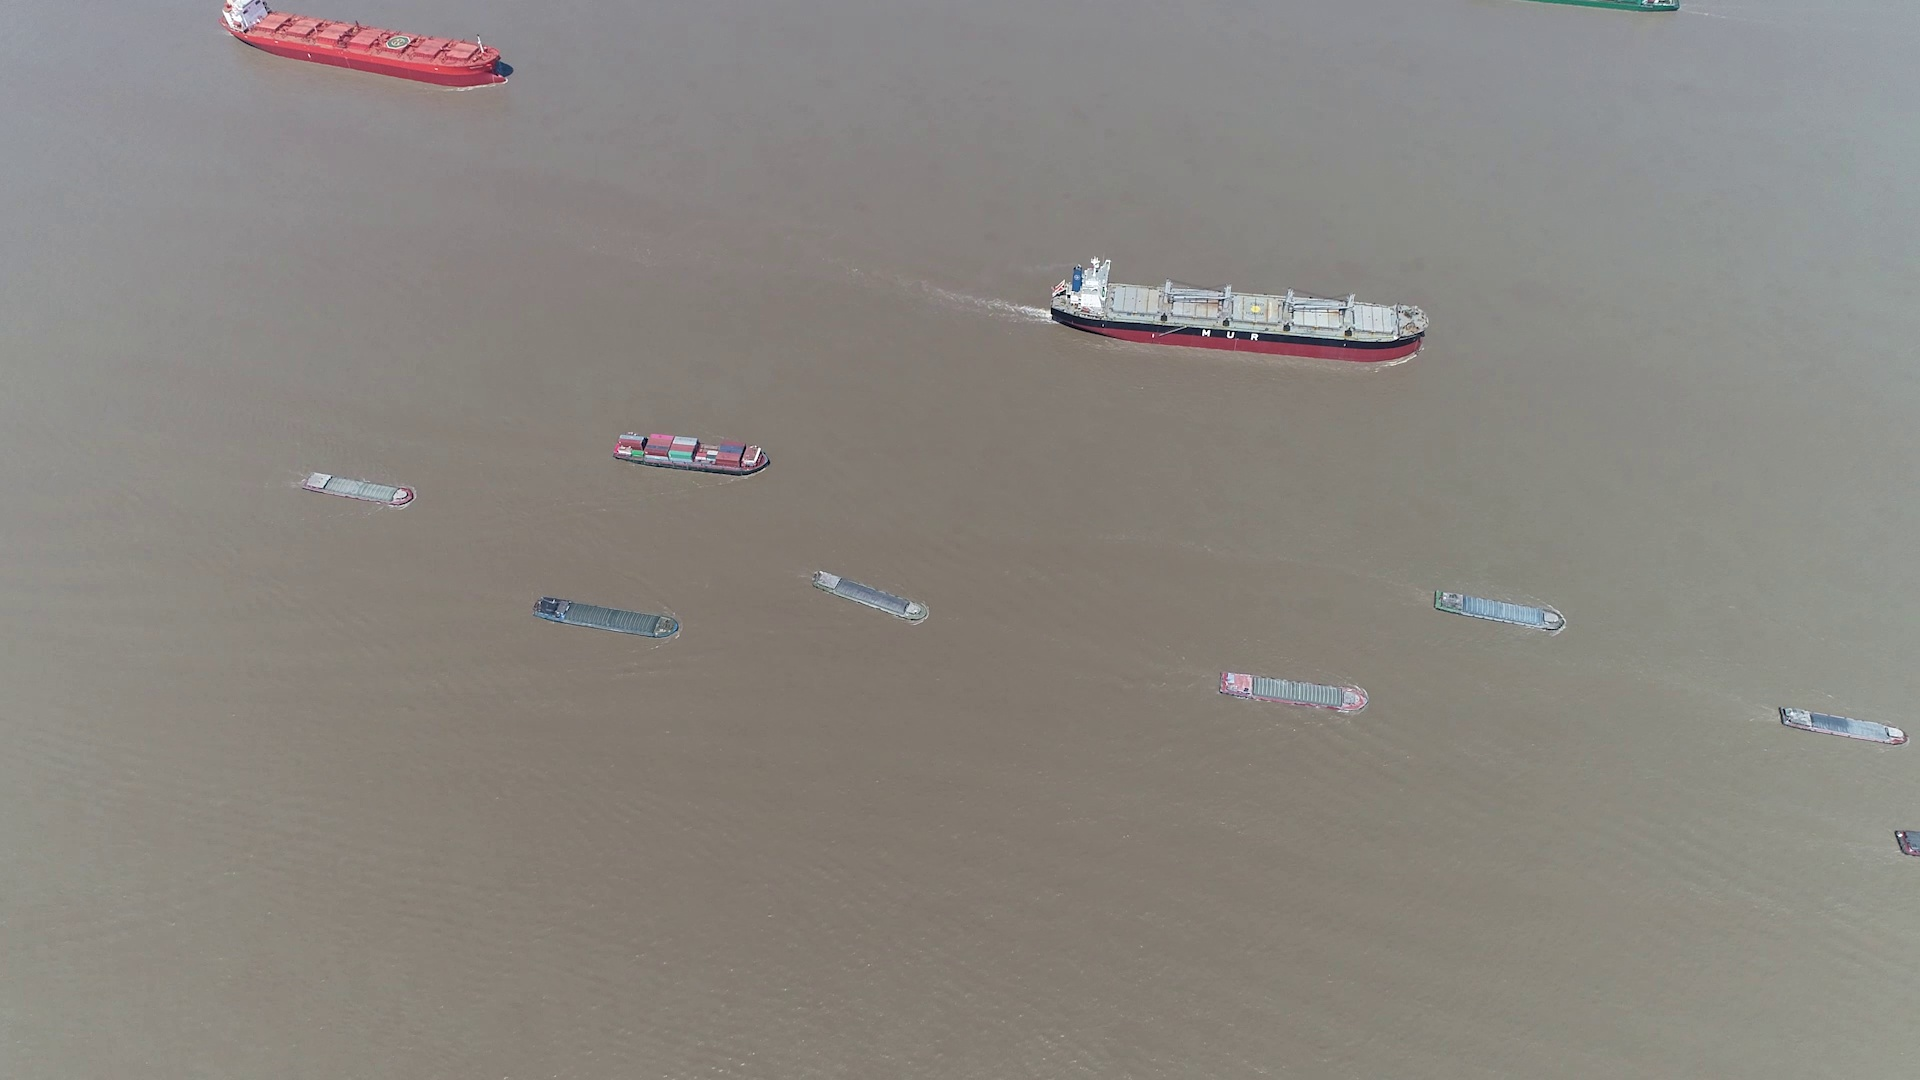ship: (1056, 260, 1425, 357), (220, 0, 516, 87), (611, 430, 770, 476), (534, 596, 682, 640), (814, 571, 932, 624), (1217, 673, 1369, 713), (1432, 589, 1567, 633), (1776, 705, 1904, 744), (301, 472, 418, 506), (1534, 0, 1680, 15), (1896, 828, 1920, 860)
